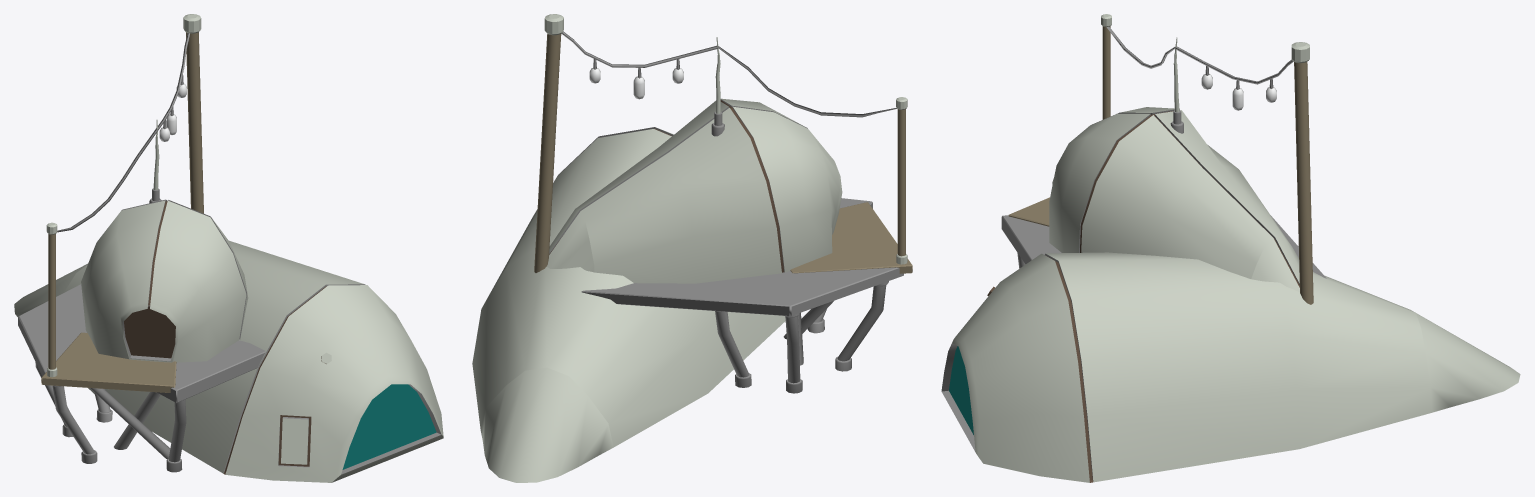
Rendered from SM_caravan_H.fbx.
The picture shows the model from 3 angles, left to right: view 1: azimuth 30°, elevation 25°; view 2: azimuth 150°, elevation 25°; view 3: azimuth 270°, elevation 25°; orthographic projection. The views are drawn at different scales.
Parts seen in each view (by area): view 1: SM_caravan_H; view 2: SM_caravan_H; view 3: SM_caravan_H.
Part boxes in pixels (bbox=[...]): SM_caravan_H: bbox=[14, 14, 443, 482]; SM_caravan_H: bbox=[472, 14, 912, 482]; SM_caravan_H: bbox=[941, 14, 1520, 482].
Size of the model in its own units: 1028 by 874 by 1257.
